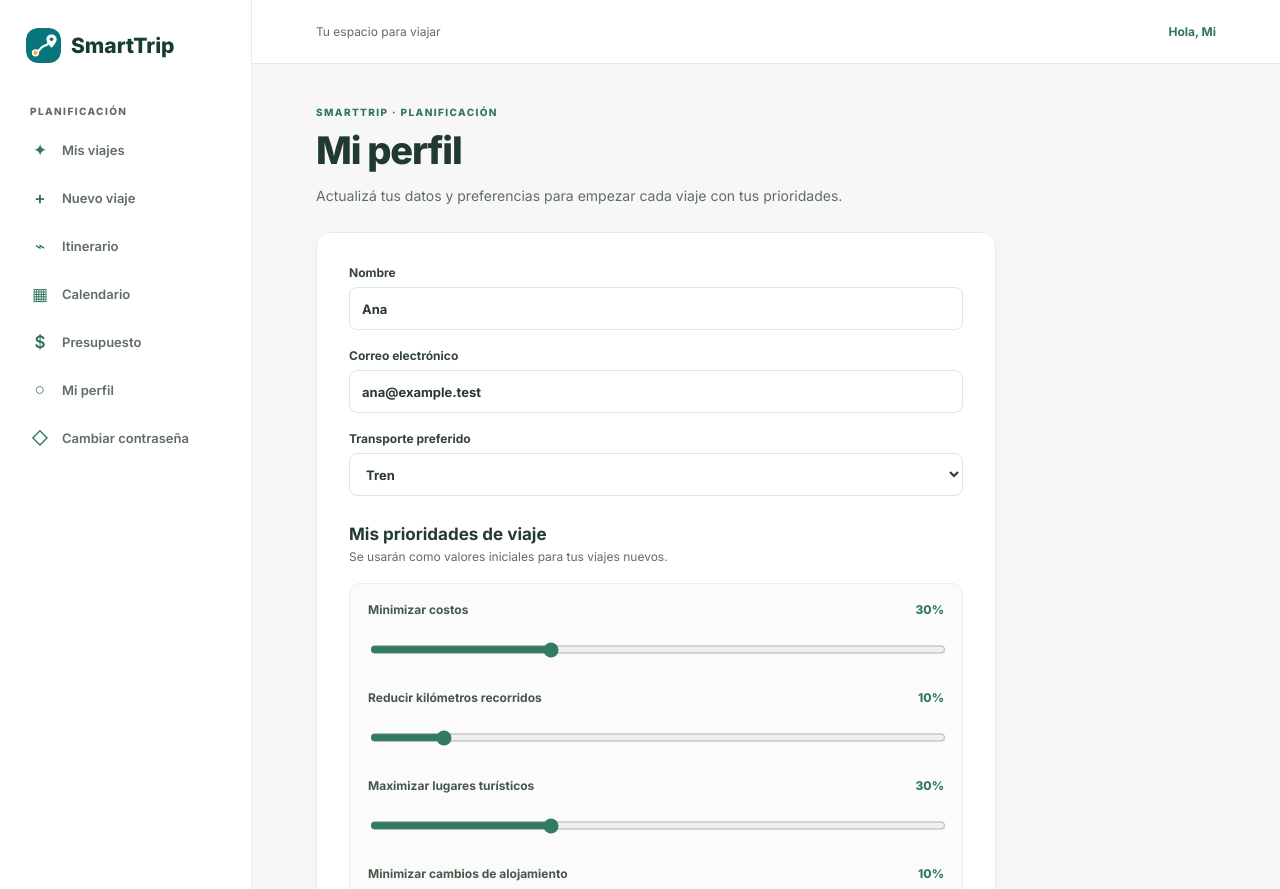
Test: Profile › usa un mensaje propio si el backend no envía uno ni devuelve el usuario
Replace the text in the field labelled "Nombre" with "  Ana P. " at (656, 308), box x1=349 y1=287 x2=963 y2=330
(page scrolled)
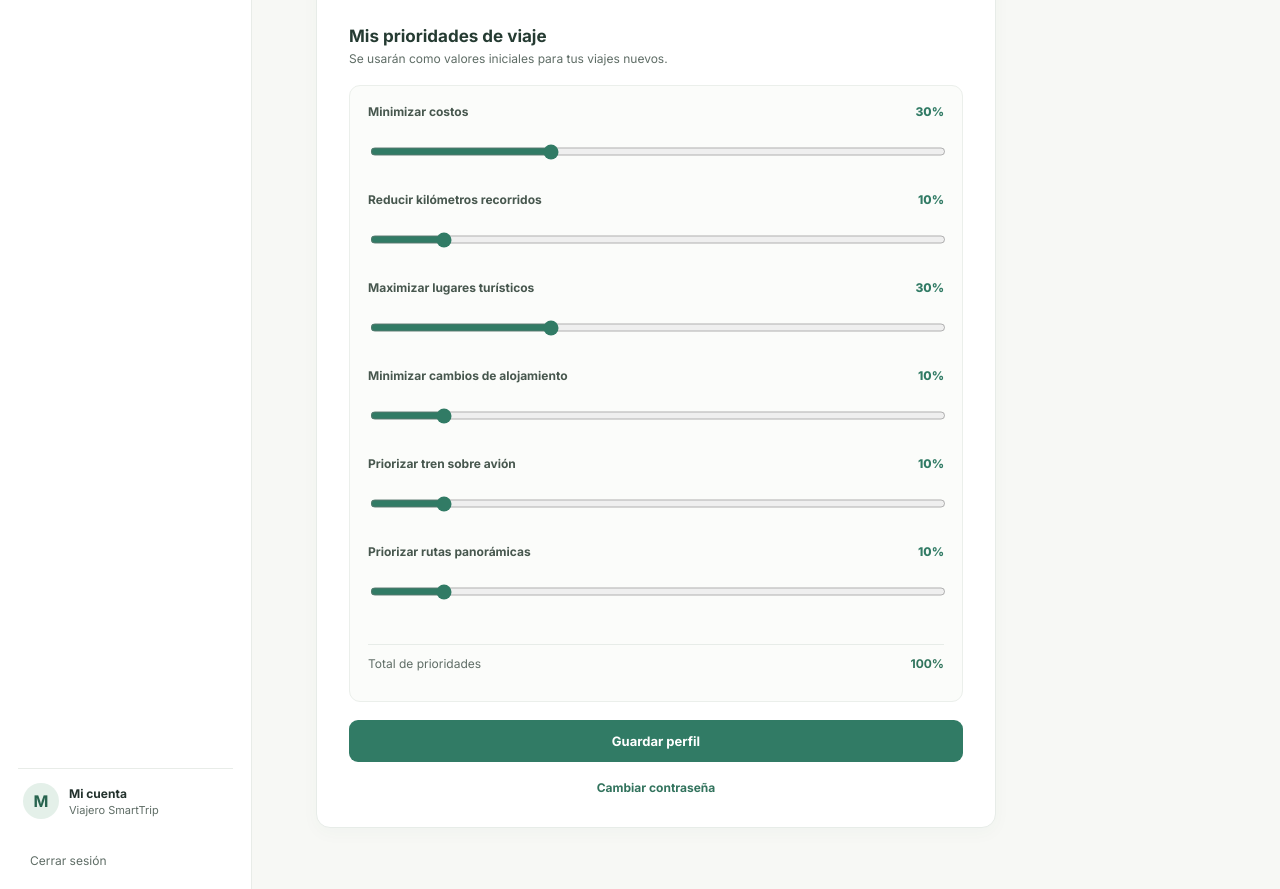
Click the button "Guardar perfil" at (656, 741), box x1=349 y1=720 x2=963 y2=762
(page scrolled)
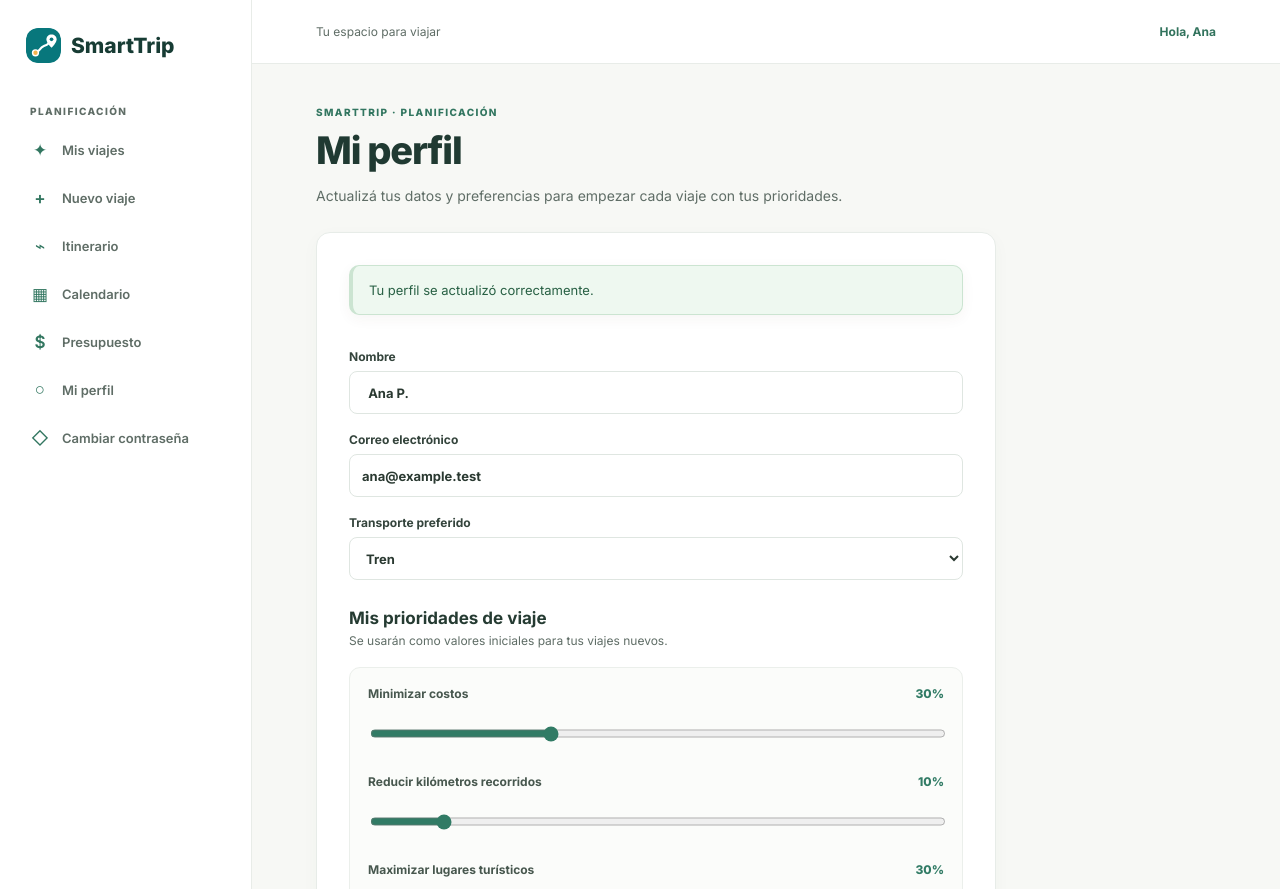
Expected: the text "Tu perfil se actualizó correctamente." is shown, x1=349 y1=265 x2=963 y2=315
